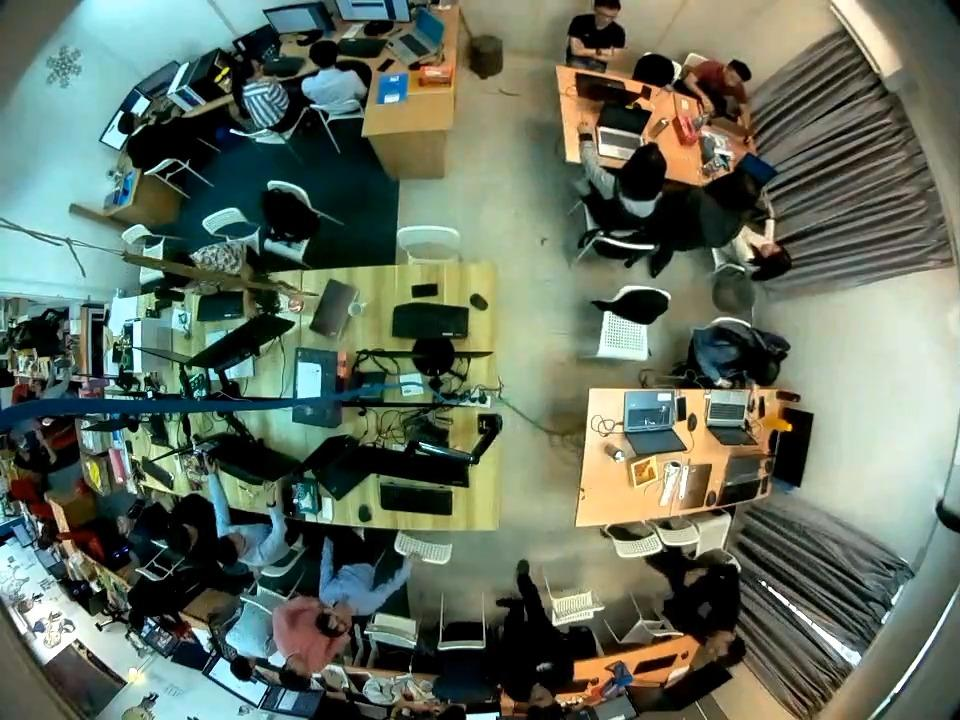name-tag: (530, 659, 556, 675)
